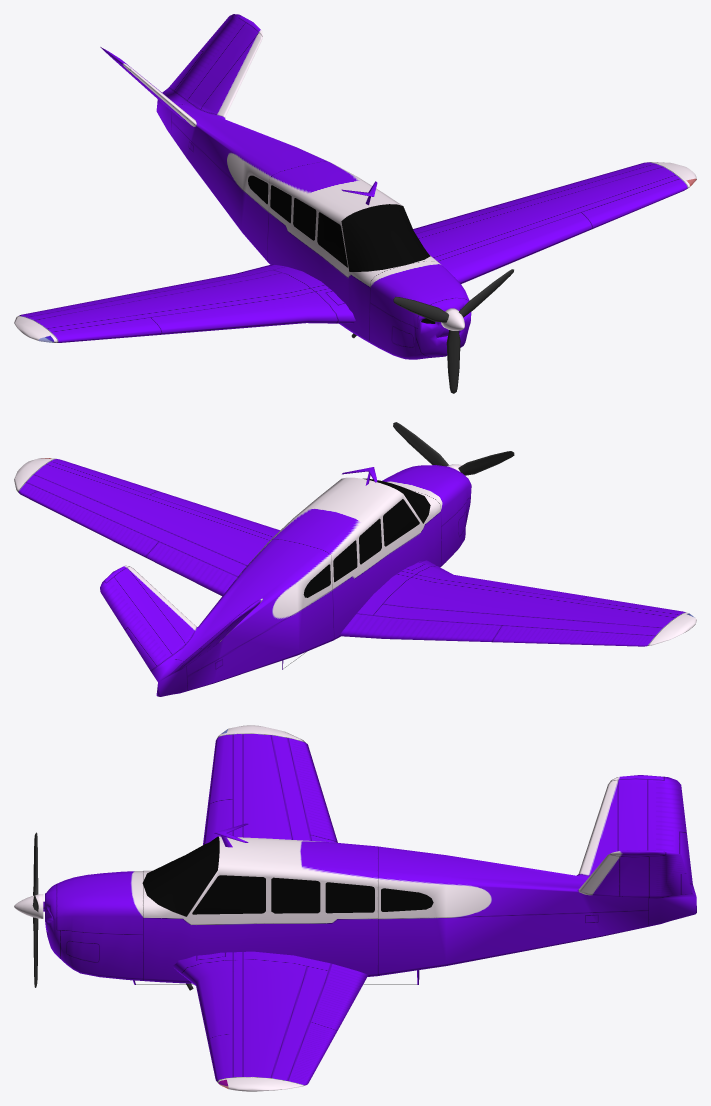
File: airplane7.obj
3 renders of one model, top to bottom at view 1: azimuth 30°, elevation 25°; view 2: azimuth 150°, elevation 25°; view 3: azimuth 270°, elevation 25°, orthographic. The views are drawn at different scales.
Parts seen in each view (by area): view 1: aircraft, window, propeller; view 2: aircraft, window, propeller; view 3: aircraft, window, propeller.
Part boxes in pixels (box(x1,y1,x2,y2)): aircraft: box(14, 14, 696, 359); window: box(248, 175, 430, 271); propeller: box(393, 269, 513, 393); aircraft: box(14, 458, 696, 696); window: box(303, 478, 430, 597); propeller: box(393, 422, 514, 475); aircraft: box(43, 725, 696, 1091); window: box(142, 836, 433, 916); propeller: box(14, 832, 43, 987).
Bounding box in the file's own units: 11.72 × 2.63 × 9.29.
5 materials, 1 textured.
